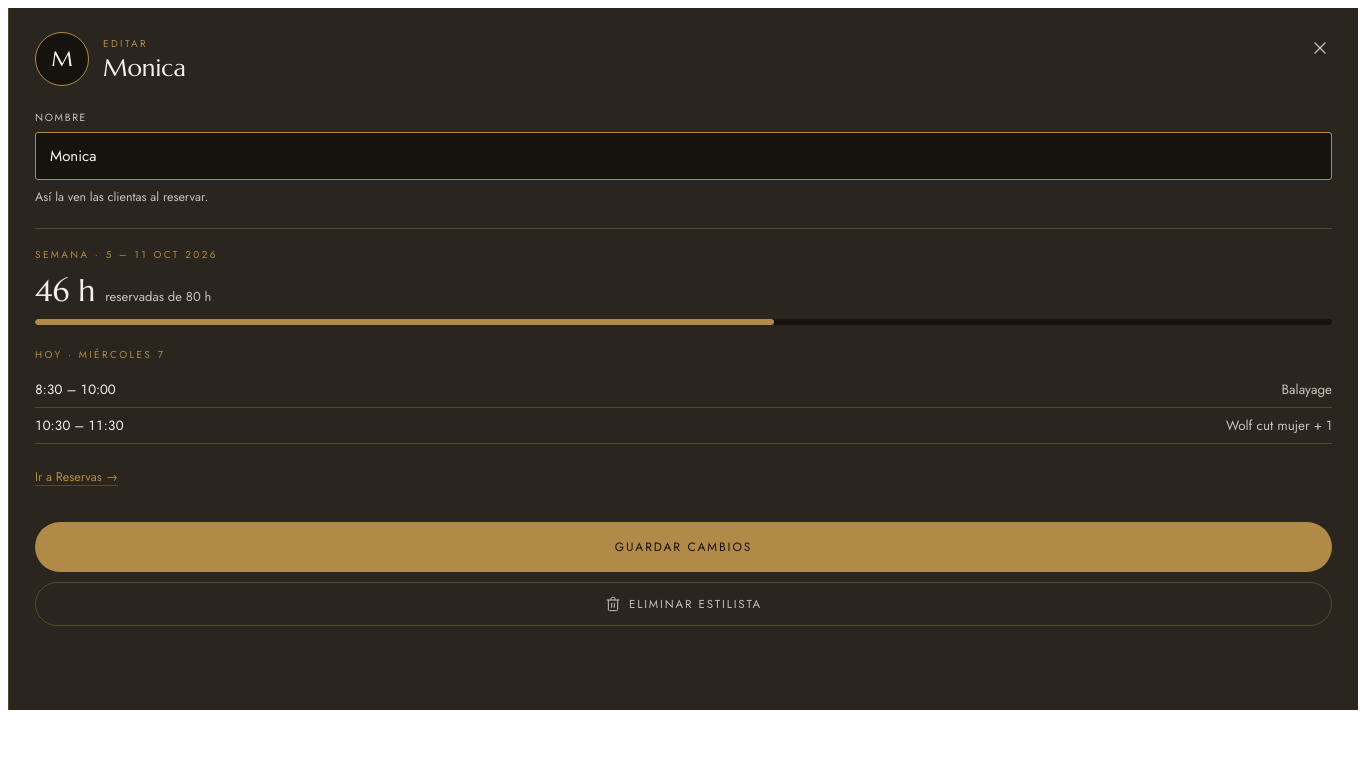
Test: PanelEstilista · eliminar › mientras borra, «Sí, eliminar» queda deshabilitado
The image size is (1366, 768).
Click the button with test id "eliminar-estilista" at (684, 604), box [35,582,1332,626]
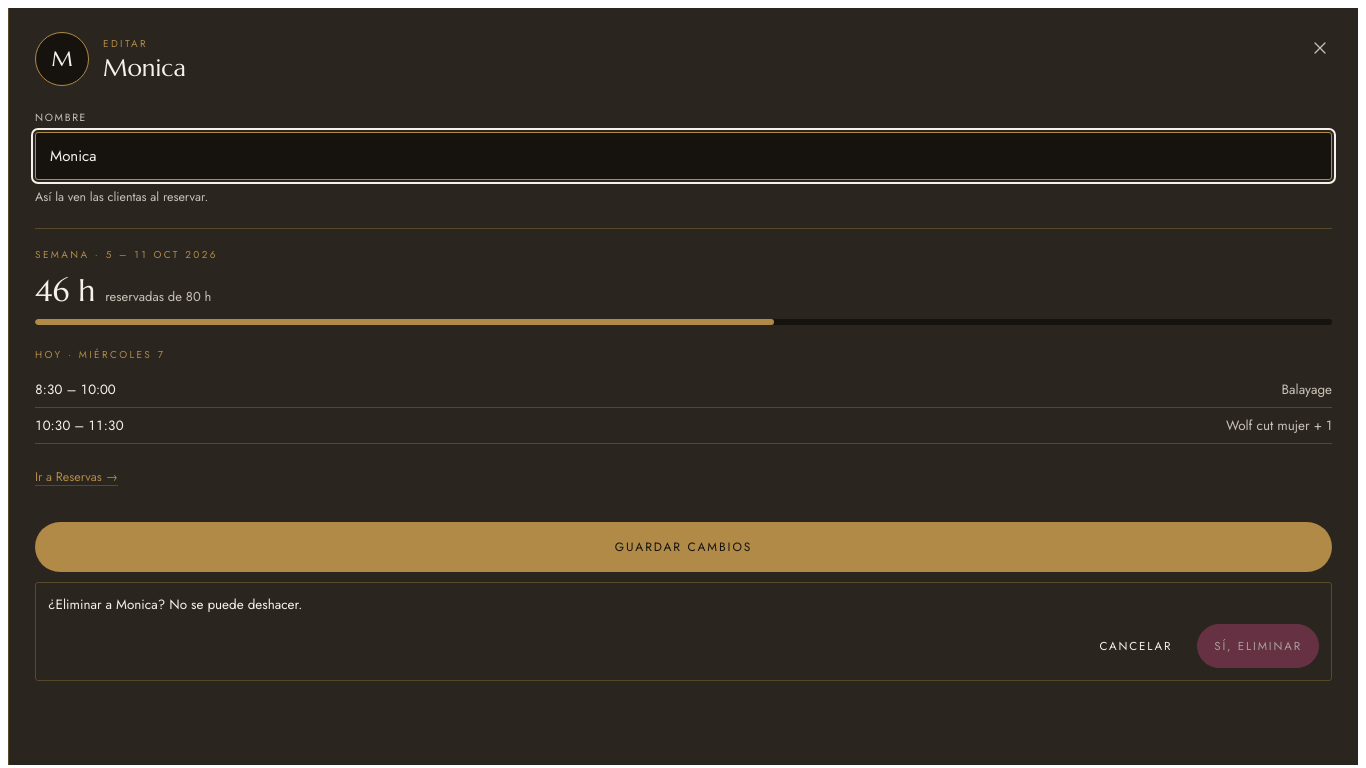
Expected: the button with test id "confirmar-eliminar" is disabled, [1197,624,1319,668]
